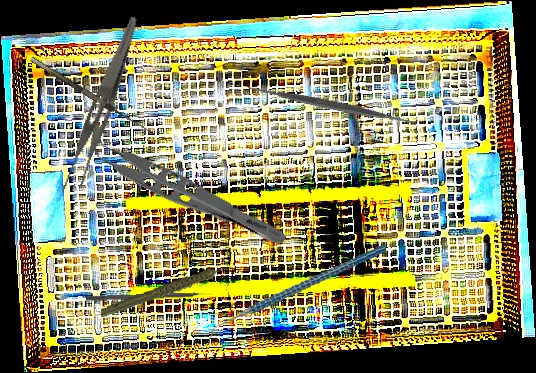Chopper: (200, 243, 394, 345)
Dressing Forceps: (58, 10, 140, 200)
Handpiece: (97, 264, 239, 319)
Hook Surgical: (29, 49, 158, 137), (85, 291, 215, 303)
Spatula Surgical: (242, 16, 422, 195)
Tissue Forceps: (82, 127, 296, 251)
